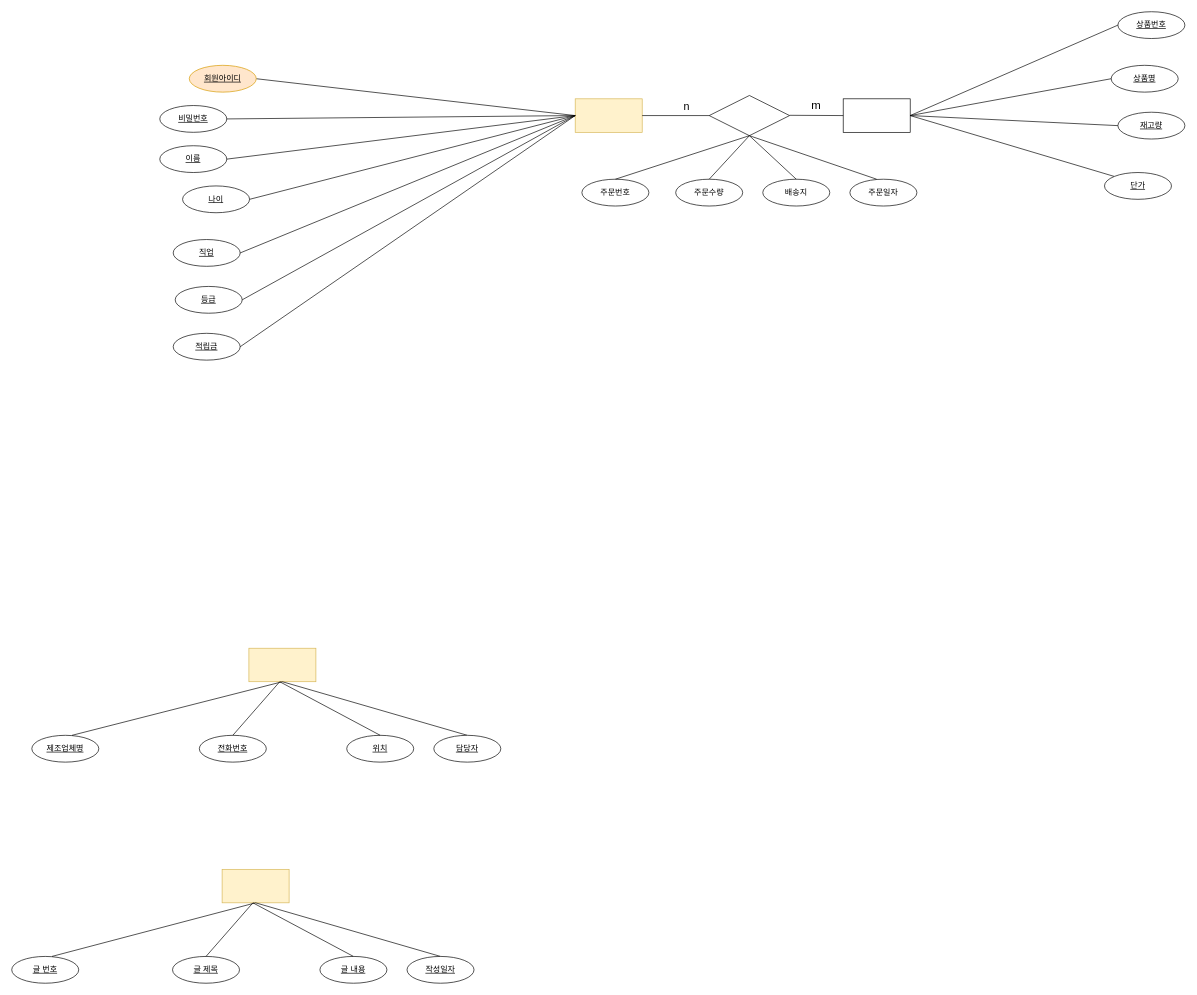
The diagram is 1197 pixels wide and 995 high, and some of its shapes have lost their labels. Here are the shapes that lost their labels. From the top down, the centre of each, then its label:
At (x=608, y=115): "회원".
At (x=749, y=115): "주문".
At (x=876, y=115): "상품".
At (x=282, y=665): "제조업체".
At (x=255, y=886): "게시글".
